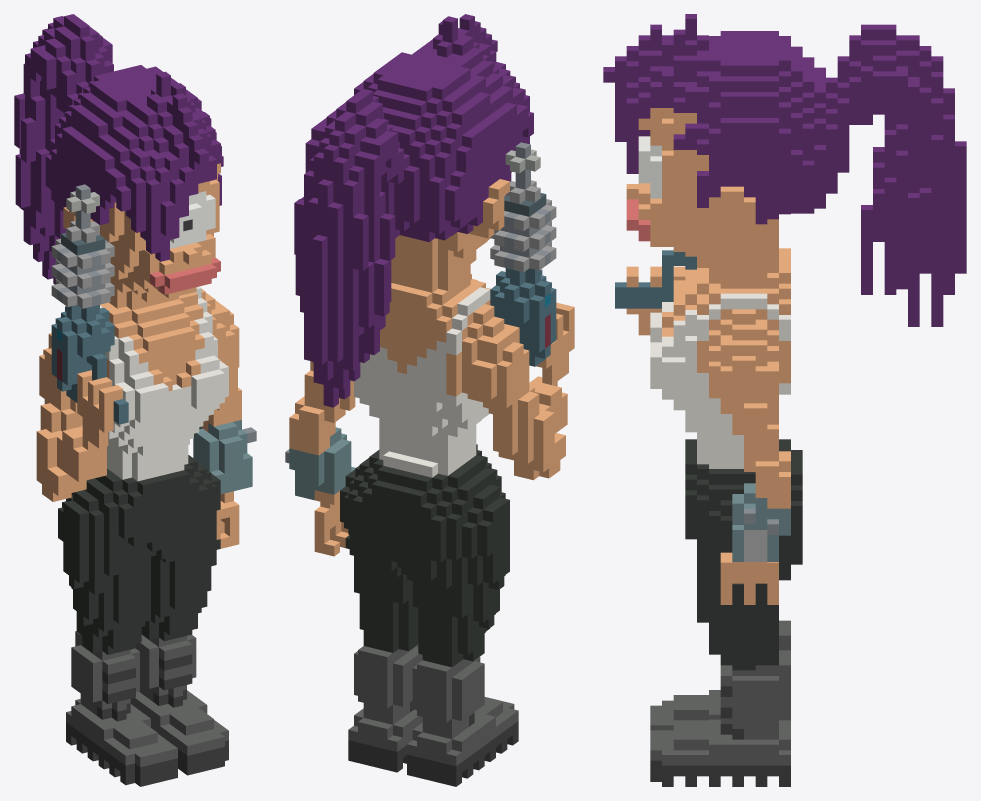
Rendered from leela.glb.
The picture shows the model from 3 angles, left to right: view 1: azimuth 30°, elevation 25°; view 2: azimuth 150°, elevation 25°; view 3: azimuth 270°, elevation 25°; orthographic projection. The views are drawn at different scales.
Visible parts, largest first — view 1: Untitled; view 2: Untitled; view 3: Untitled.
Part boxes in pixels (box(x1,y1,x2,y2)): Untitled: box(14, 14, 256, 786); Untitled: box(285, 14, 574, 786); Untitled: box(603, 14, 966, 786).
Bounding box in the file's own units: 2.4 × 7 × 3.1.
1 material, 1 textured.
